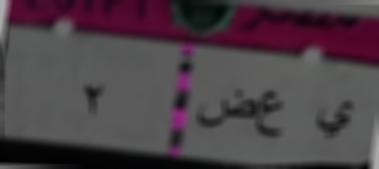2: (75, 78, 108, 122)
ain: (256, 86, 286, 147)
daad: (196, 86, 255, 134)
yaa: (316, 97, 358, 144)
